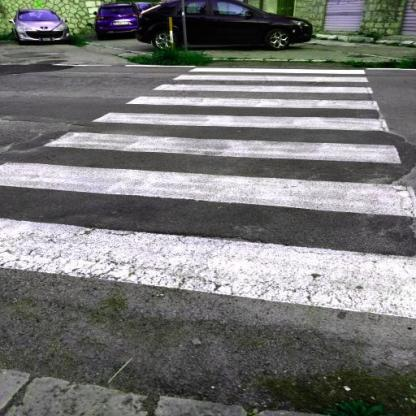crosswalk: (34, 110, 408, 167), (170, 66, 374, 85)
